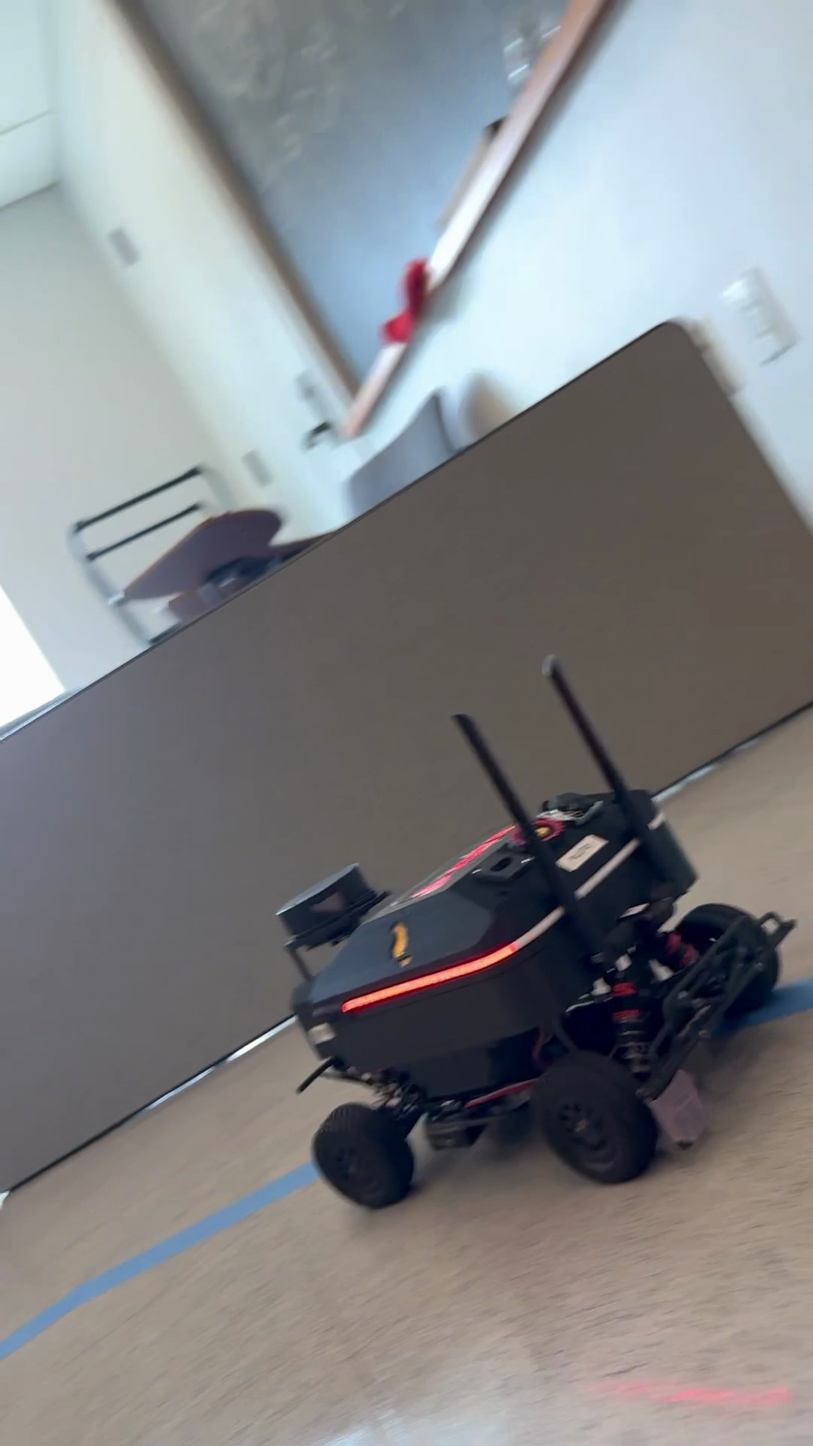racecar: (276, 658, 793, 1211)
